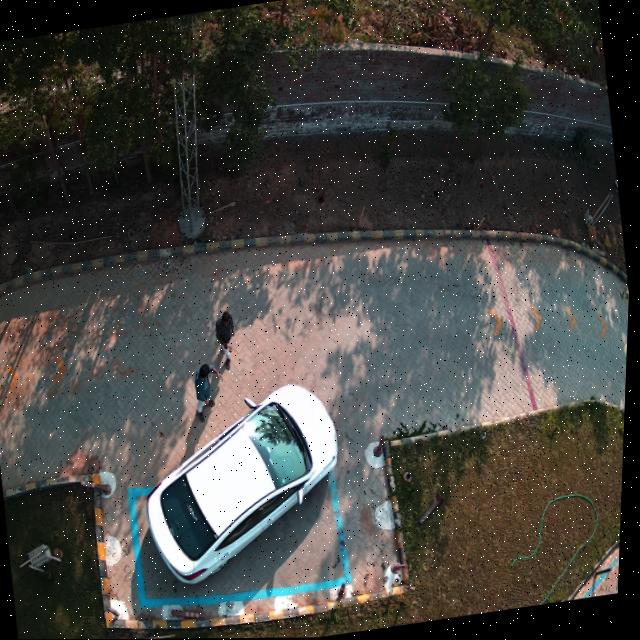car: (149, 386, 342, 588)
